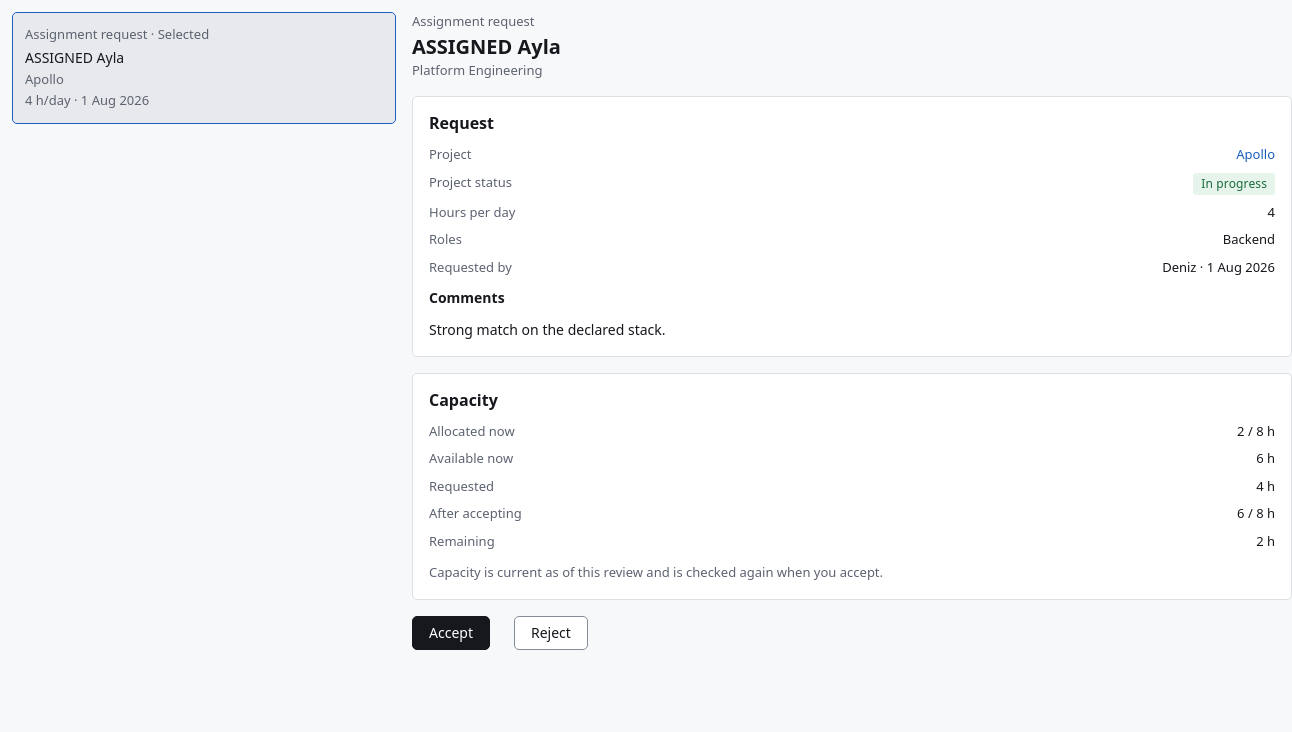
Test: decisions › removes the decision controls once somebody else has decided
Click the button "Accept" at (451, 632), box [412, 616, 490, 650]
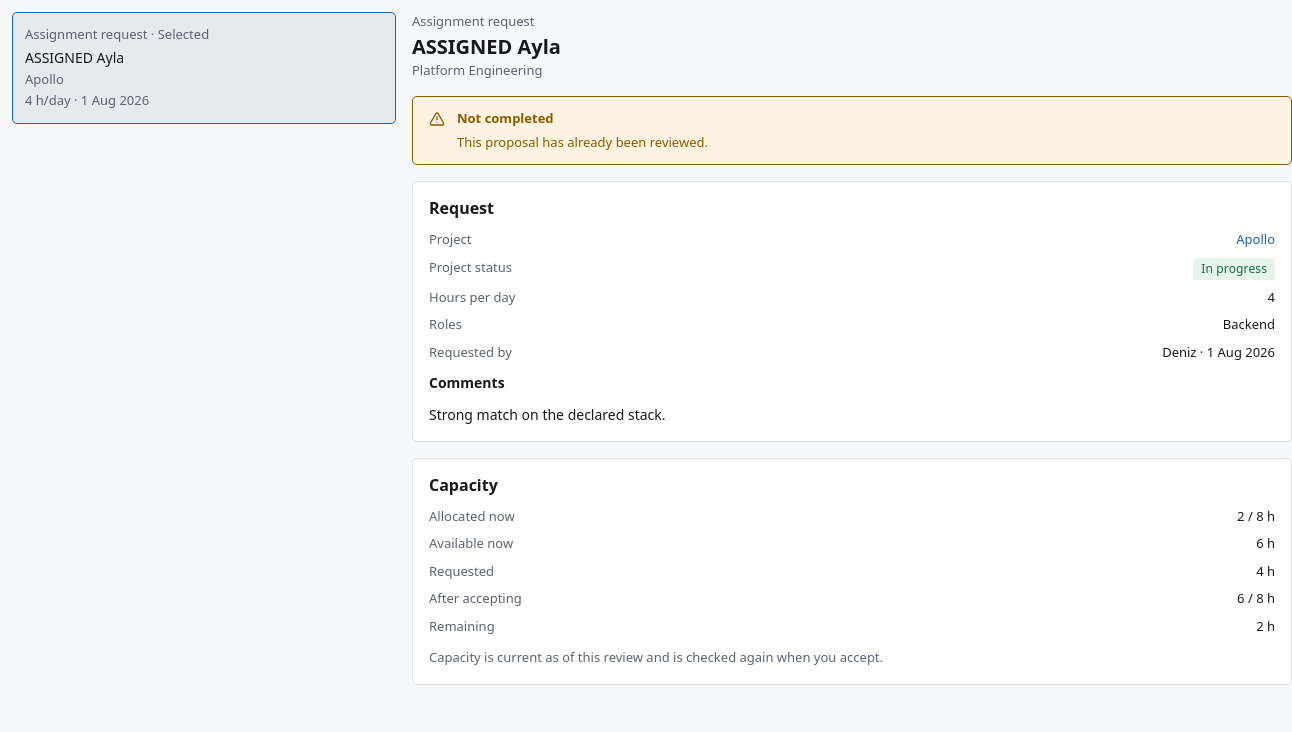
Expected: the text "This proposal has already been reviewed." is shown, [457, 132, 708, 152]
Expected: the button "Reject" is gone
